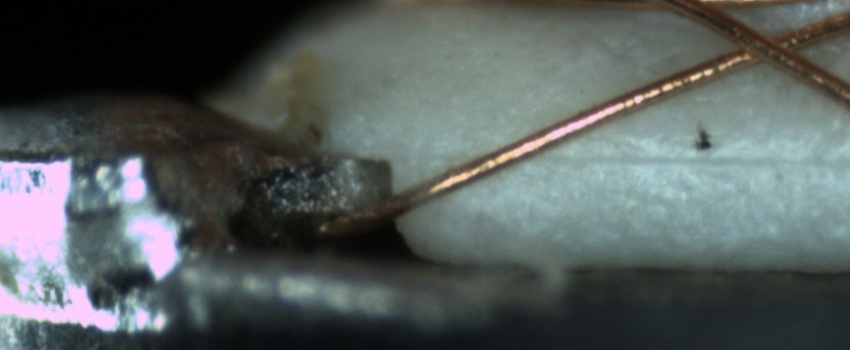CL: (714, 16, 815, 75)
DL: (457, 126, 850, 194)
